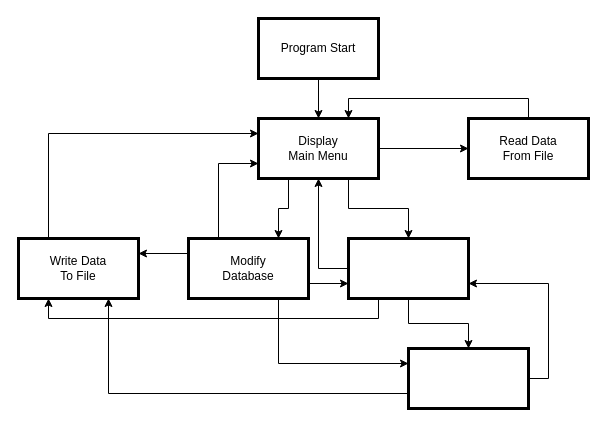
Some shapes in this 607 by 427 pixel diagram are drawn without their labels. The box of each missing label's shape, as (x1, y1, x2, y2) in pixels:
Display Results: (406, 346, 530, 410)
Search Database: (346, 236, 470, 300)
